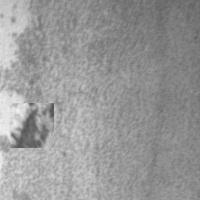patches: (10, 103, 54, 148)
pitted_surface: (1, 1, 200, 200)
